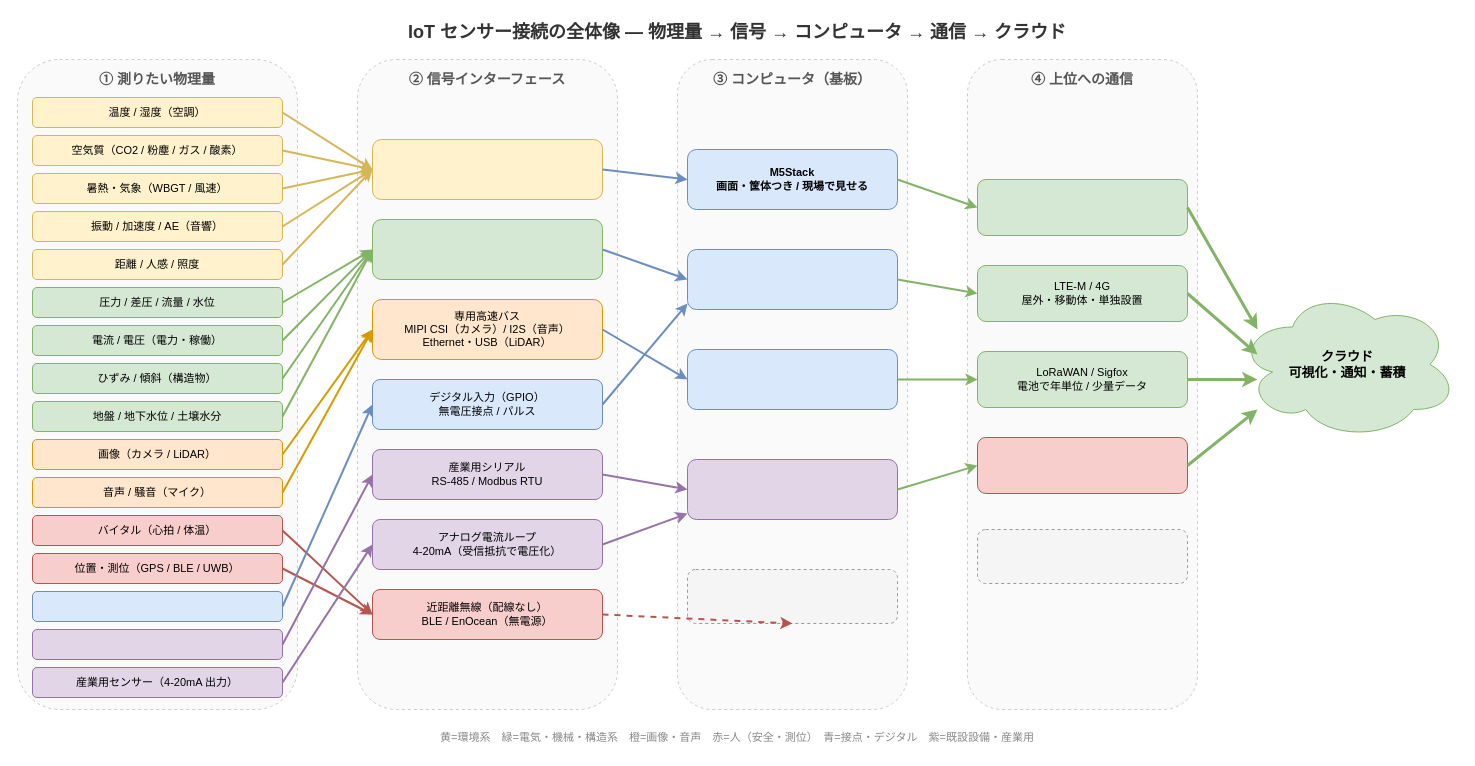
Some shapes in this 1475 by 766 pixel diagram are drawn without their labels. Each missing label, with the centre of its shape:
"Arduino アナログ・接点入力に強い" belongs at pixel 792 279.
"BLE → スマホ / ゲートウェイ ウェアラブル・タグ" belongs at pixel 1082 465.
"Raspberry Pi 画像・音声・LiDAR・エッジ AI" belongs at pixel 792 379.
"※ マイコンで受けるなら 変換モジュールを挟むのが定石" belongs at pixel 792 596.
"※ 画像・振動波形は LPWA では送れない（帯域不足）" belongs at pixel 1082 556.
"アナログ電圧 ADC で読む（0〜3.3V） ひずみはブリッジ＋増幅" belongs at pixel 487 249.
"デジタル通信 I2C / SPI / UART （Grove・Unit で挿すだけ）" belongs at pixel 487 169.
"接点 ON/OFF（開閉・稼働）" belongs at pixel 157 606.
"既設の設備機器（空調盤・計測器）" belongs at pixel 157 644.
"有線 LAN / Wi-Fi 電源と AP がある屋内" belongs at pixel 1082 207.
"産業用ゲートウェイ RS-485・4-20mA を直接収容" belongs at pixel 792 489.
